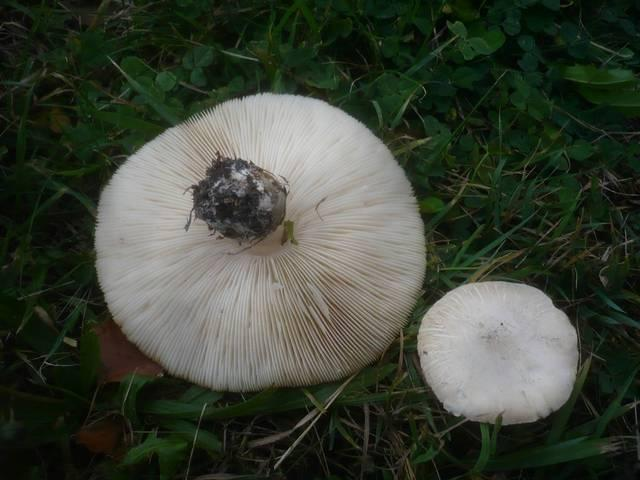Non-edible Mushroom: (92, 90, 427, 392), (415, 279, 579, 426)
